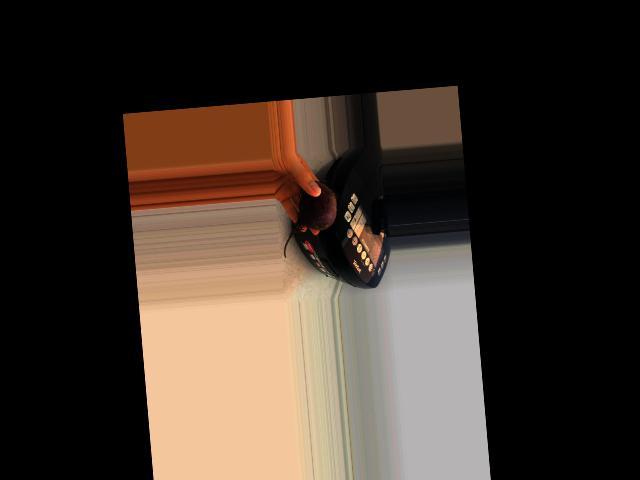beet: (278, 179, 343, 258)
